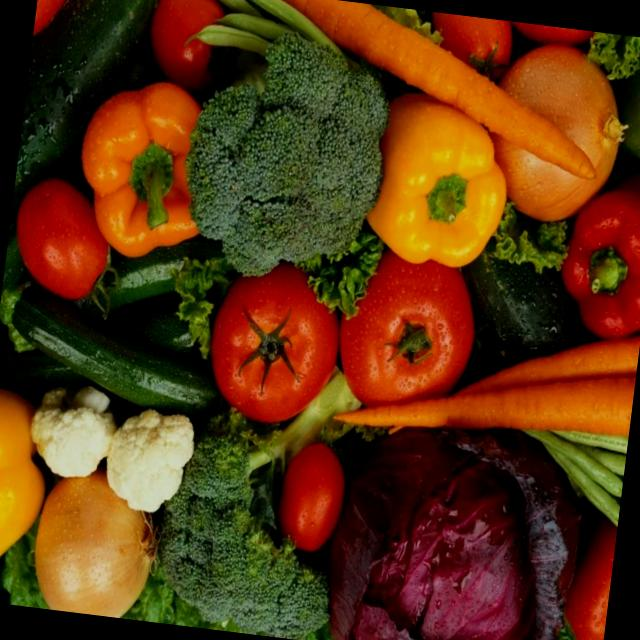carrot: (285, 0, 595, 179), (338, 336, 640, 436), (456, 336, 640, 395)
tomato: (339, 249, 474, 406), (211, 262, 339, 423), (16, 178, 108, 299), (277, 443, 345, 551), (150, 0, 223, 91), (432, 12, 512, 80)
